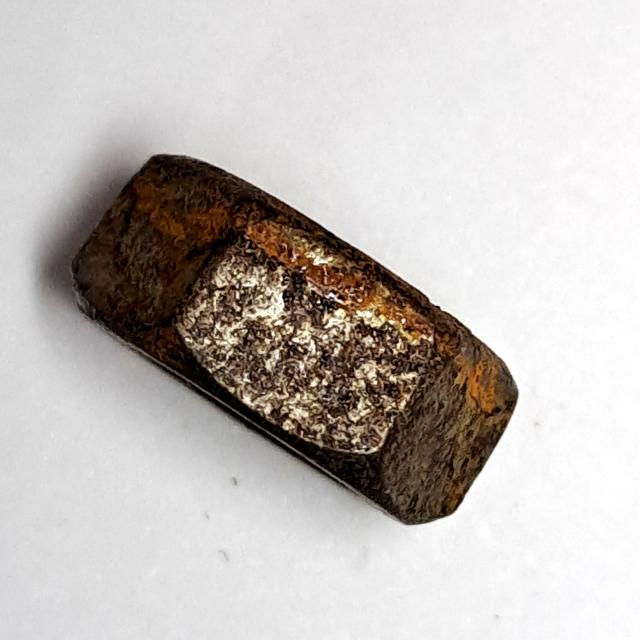Side_Rust: (64, 141, 531, 534)
